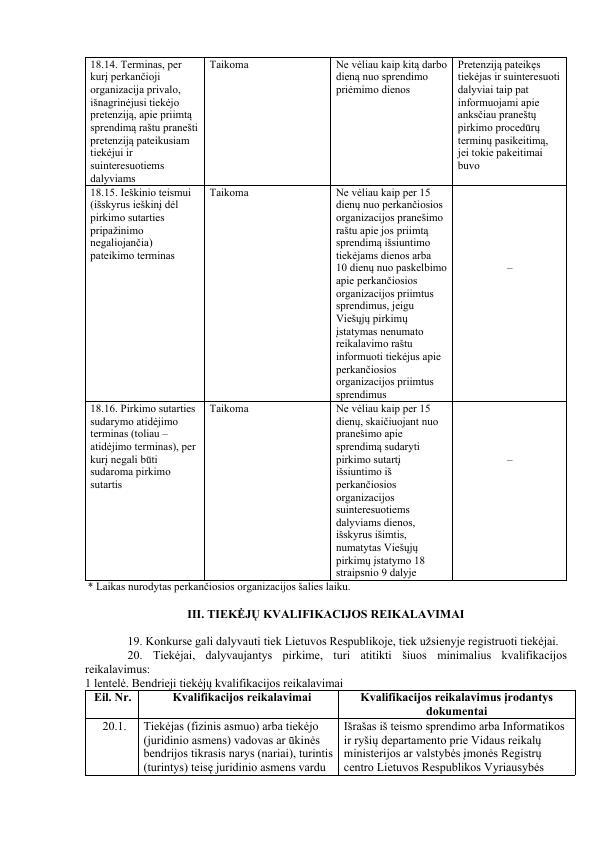table: (84, 55, 568, 583), (83, 689, 578, 778)
text: (85, 636, 568, 676), (186, 609, 465, 621), (82, 675, 345, 687), (93, 582, 351, 593)
